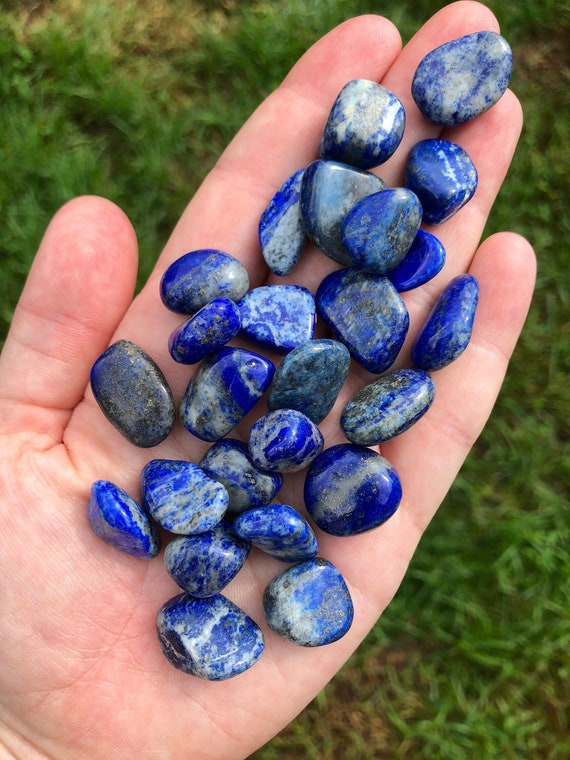Lapis_Lazuli: (304, 440, 403, 536), (322, 271, 412, 363), (326, 76, 408, 165), (138, 458, 231, 531), (347, 184, 421, 271), (250, 410, 321, 472)
